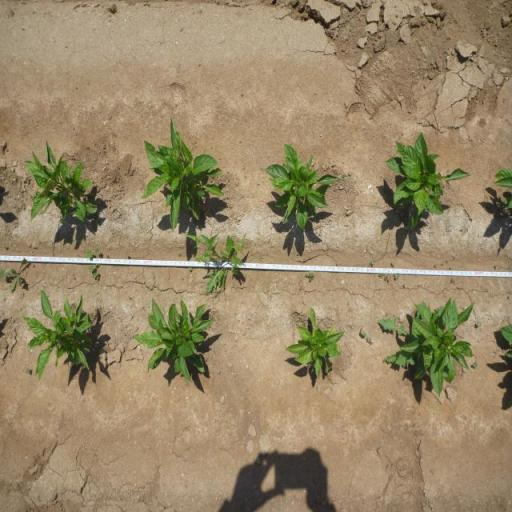plant: (141, 120, 225, 230), (382, 130, 472, 232), (130, 295, 216, 385), (22, 138, 100, 227), (27, 290, 98, 384), (266, 142, 339, 232), (409, 298, 473, 396), (284, 307, 345, 377), (493, 166, 512, 212)
weed: (186, 233, 245, 293), (377, 318, 411, 369), (0, 259, 27, 294), (87, 248, 102, 282), (305, 272, 315, 282), (359, 326, 367, 338), (366, 336, 373, 346), (384, 273, 390, 283), (369, 258, 376, 266), (339, 173, 345, 181), (378, 272, 384, 280), (394, 272, 400, 280), (472, 361, 478, 369), (258, 255, 264, 261), (476, 320, 481, 327), (390, 260, 394, 268)
